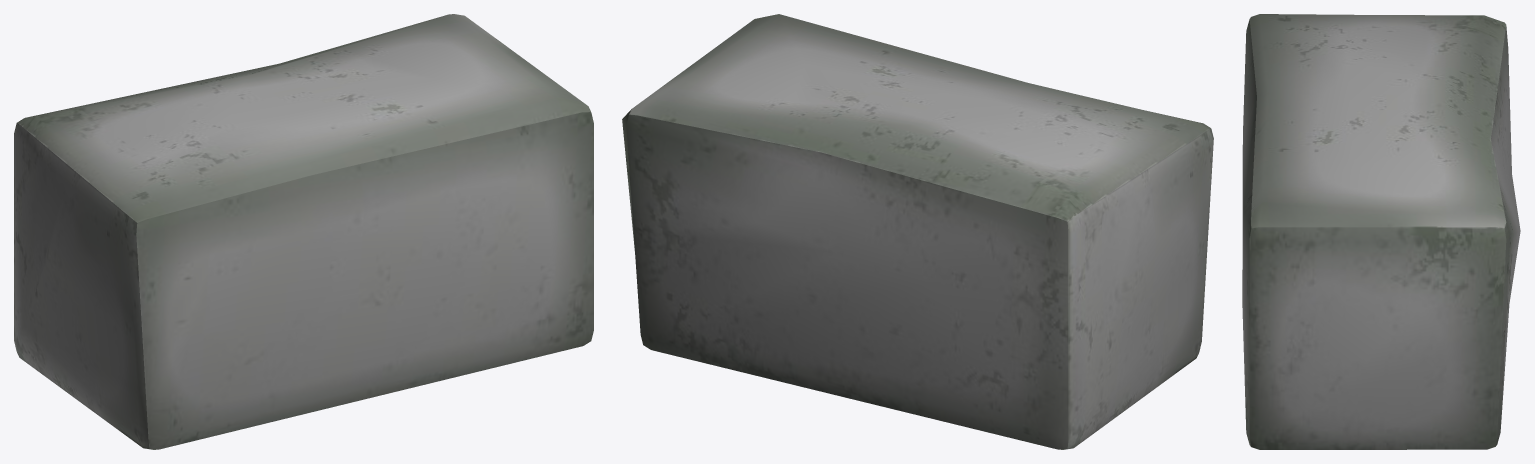
File: RuinsBrick1.fbx
3 renders of one model, left to right at view 1: azimuth 30°, elevation 25°; view 2: azimuth 150°, elevation 25°; view 3: azimuth 270°, elevation 25°, orthographic. The views are drawn at different scales.
Parts seen in each view (by area): view 1: Ruins_brick1; view 2: Ruins_brick1; view 3: Ruins_brick1.
Boxes of the visible parts, bbox=[...] form: Ruins_brick1: bbox=[14, 14, 593, 449]; Ruins_brick1: bbox=[622, 14, 1213, 449]; Ruins_brick1: bbox=[1242, 14, 1520, 449].
Bounding box in the file's own units: 25.55 × 13.68 × 13.69.
